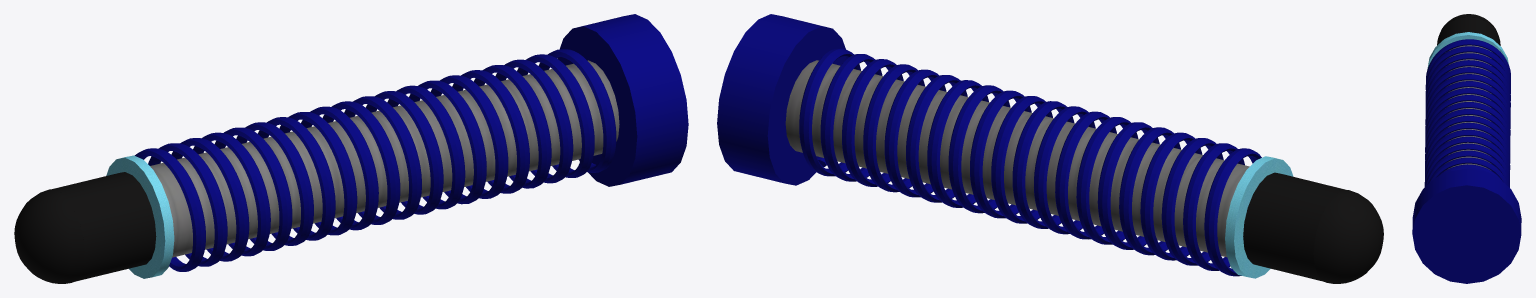
File: resorte.obj
3 renders of one model, left to right at view 1: azimuth 30°, elevation 25°; view 2: azimuth 150°, elevation 25°; view 3: azimuth 270°, elevation 25°, orthographic. The views are drawn at different scales.
Visible parts, largest first — view 1: Resorte_phong1SG.002, Resorte_phong2SG.002, Resorte_phong4SG.001, Resorte_phong3SG.001; view 2: Resorte_phong1SG.002, Resorte_phong2SG.002, Resorte_phong4SG.001, Resorte_phong3SG.001; view 3: Resorte_phong1SG.002, Resorte_phong4SG.001, Resorte_phong2SG.002, Resorte_phong3SG.001.
Part boxes in pixels (x1=…): Resorte_phong1SG.002: x1=135, y1=14, x2=688, y2=271; Resorte_phong2SG.002: x1=150, y1=60, x2=619, y2=257; Resorte_phong4SG.001: x1=14, y1=172, x2=156, y2=283; Resorte_phong3SG.001: x1=106, y1=155, x2=174, y2=278; Resorte_phong1SG.002: x1=717, y1=14, x2=1261, y2=276; Resorte_phong2SG.002: x1=785, y1=60, x2=1249, y2=257; Resorte_phong4SG.001: x1=1243, y1=172, x2=1383, y2=283; Resorte_phong3SG.001: x1=1225, y1=156, x2=1293, y2=278; Resorte_phong1SG.002: x1=1412, y1=39, x2=1521, y2=283; Resorte_phong4SG.001: x1=1437, y1=14, x2=1500, y2=45; Resorte_phong2SG.002: x1=1445, y1=45, x2=1491, y2=170; Resorte_phong3SG.001: x1=1427, y1=32, x2=1508, y2=67.
Size of the model in its own units: 1.61 by 0.3674 by 0.3679.
4 materials, 4 textured.
